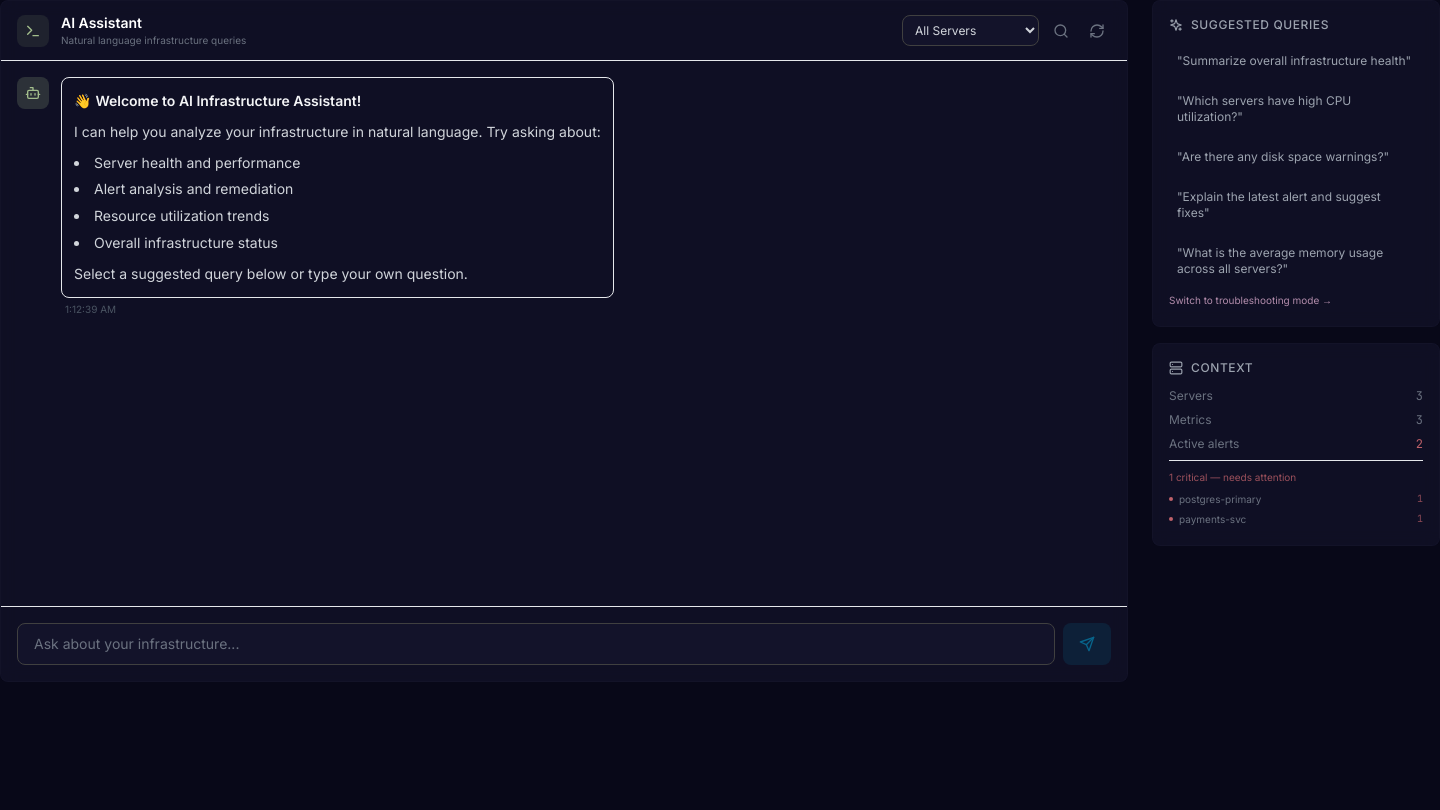
Test: AIChat › sends message and shows user message
The width and height of the screenshot is (1440, 810).
In the field with placeholder "Ask about your infrastructure...": (536, 644) [17, 623, 1055, 665], type "How are my servers?"
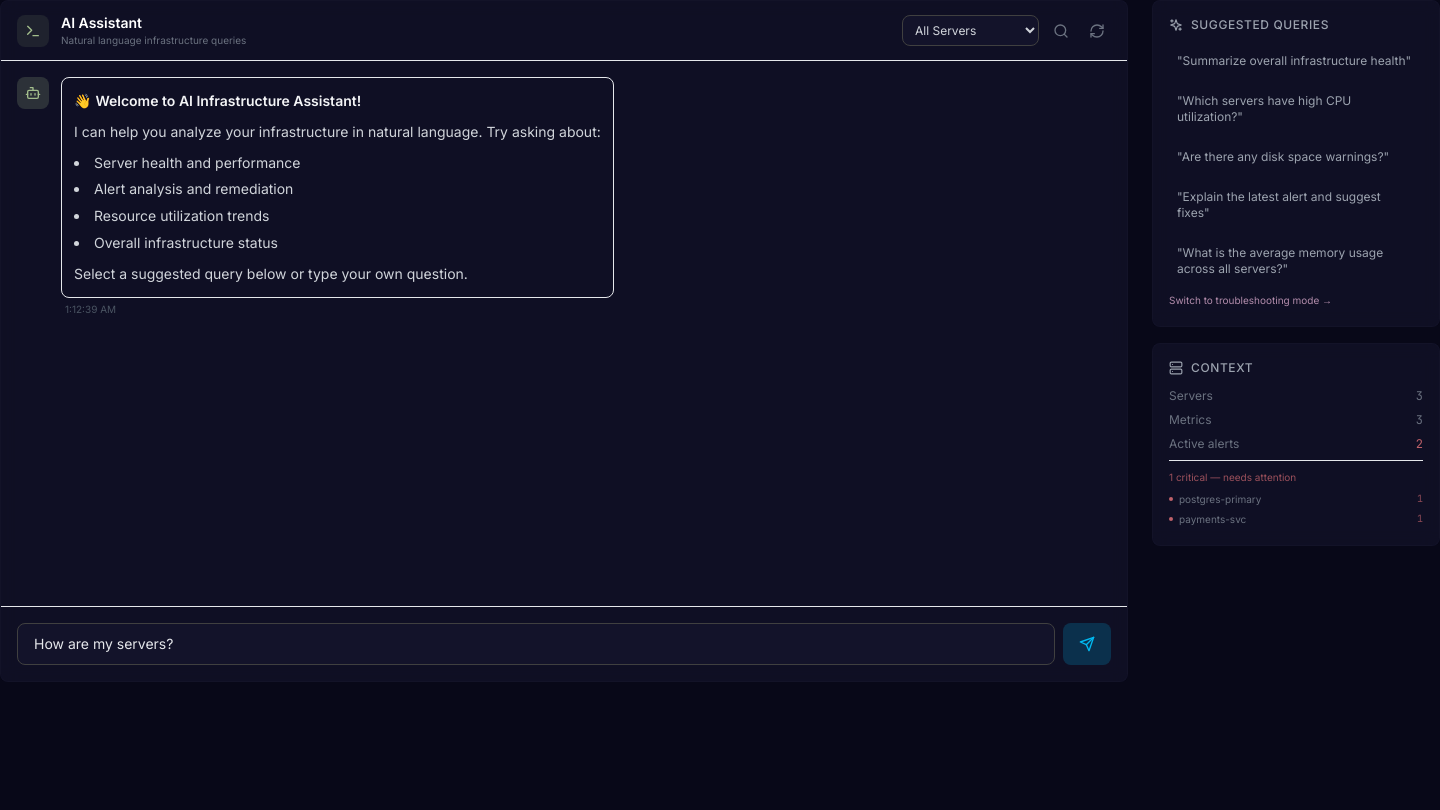
Submit the form, box [17, 623, 1111, 665]
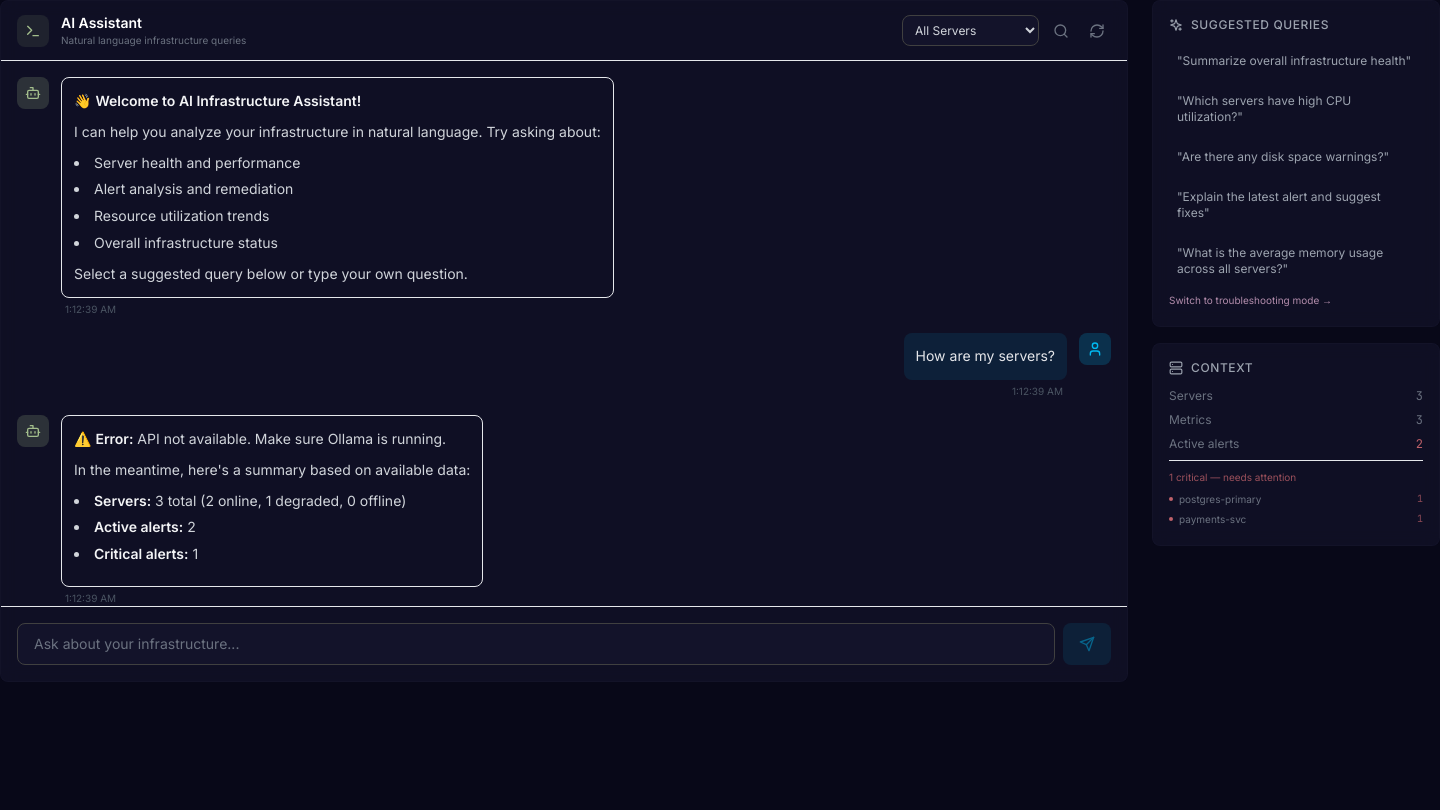
Now the text "How are my servers?" is shown, box [916, 345, 1055, 368]
